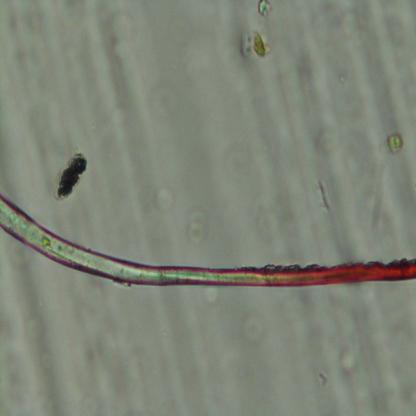Background material: (8, 245, 51, 380), (251, 195, 314, 254), (314, 0, 372, 63), (289, 47, 316, 139), (52, 150, 90, 201), (102, 16, 137, 68), (314, 124, 342, 164), (152, 88, 180, 126), (184, 204, 209, 246), (240, 312, 269, 346), (241, 28, 272, 59), (152, 184, 179, 212), (340, 345, 360, 375), (318, 181, 333, 212), (388, 132, 404, 155), (257, 0, 276, 19), (318, 372, 328, 389)
Microfibre: (0, 194, 416, 290)
